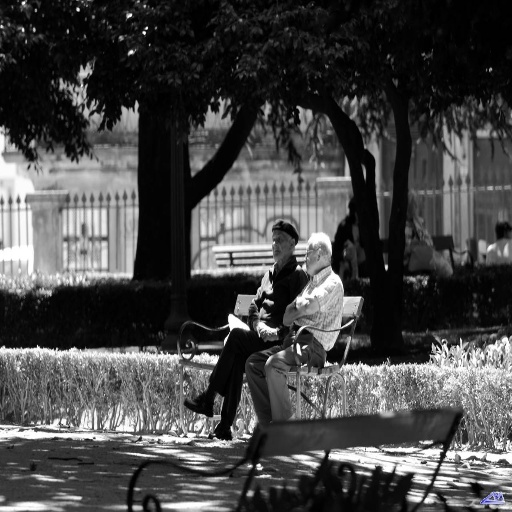hand: (258, 326, 278, 342), (254, 318, 270, 336)
